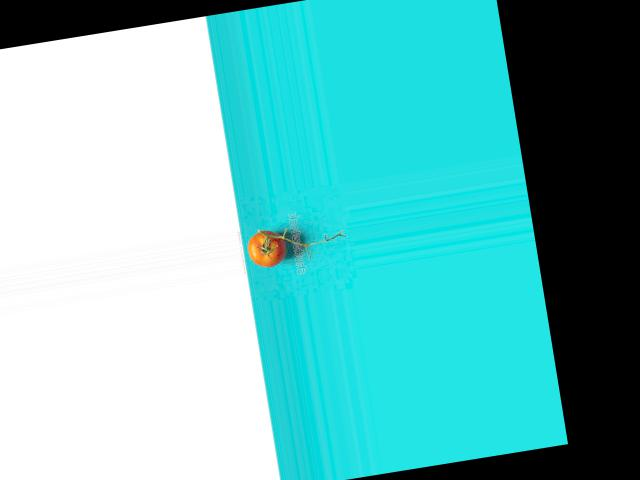tomato: (246, 226, 287, 269)
